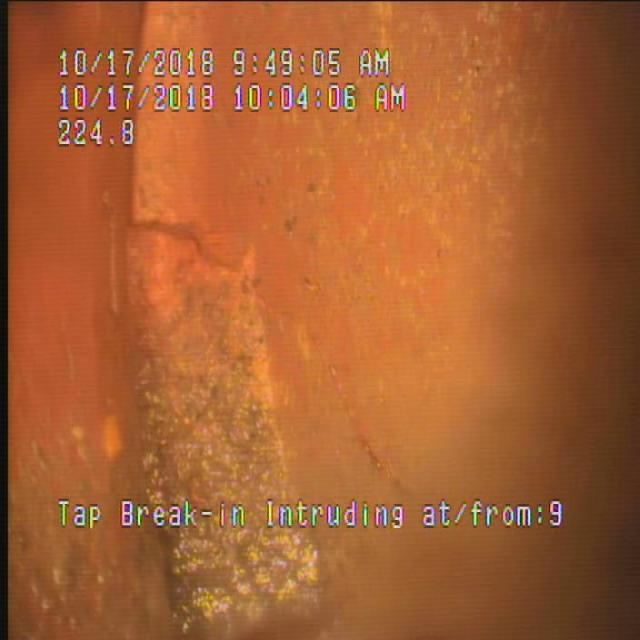Crack: (132, 160, 370, 356)
